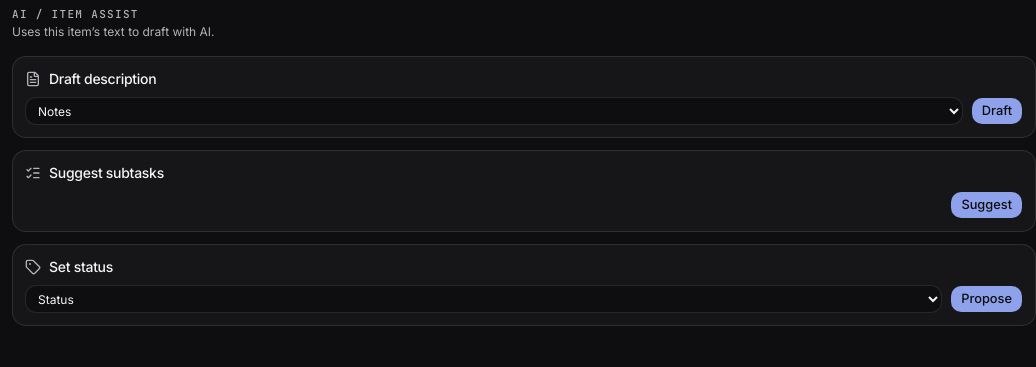
ItemAssistPanel › renders a quota error inline without crashing
Click the button "Draft" at (997, 111), box top-left (971, 97), bottom-right (1023, 125)
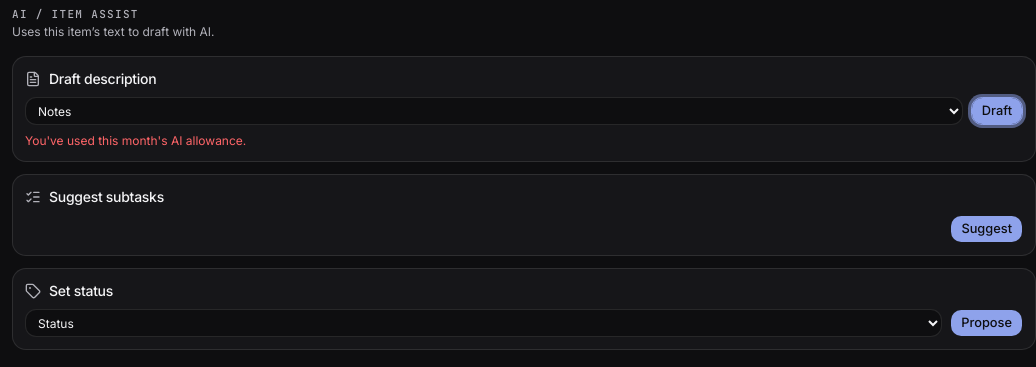
Expected: the message reads "You've used this month's AI allowance.", top-left (25, 133), bottom-right (246, 148)
